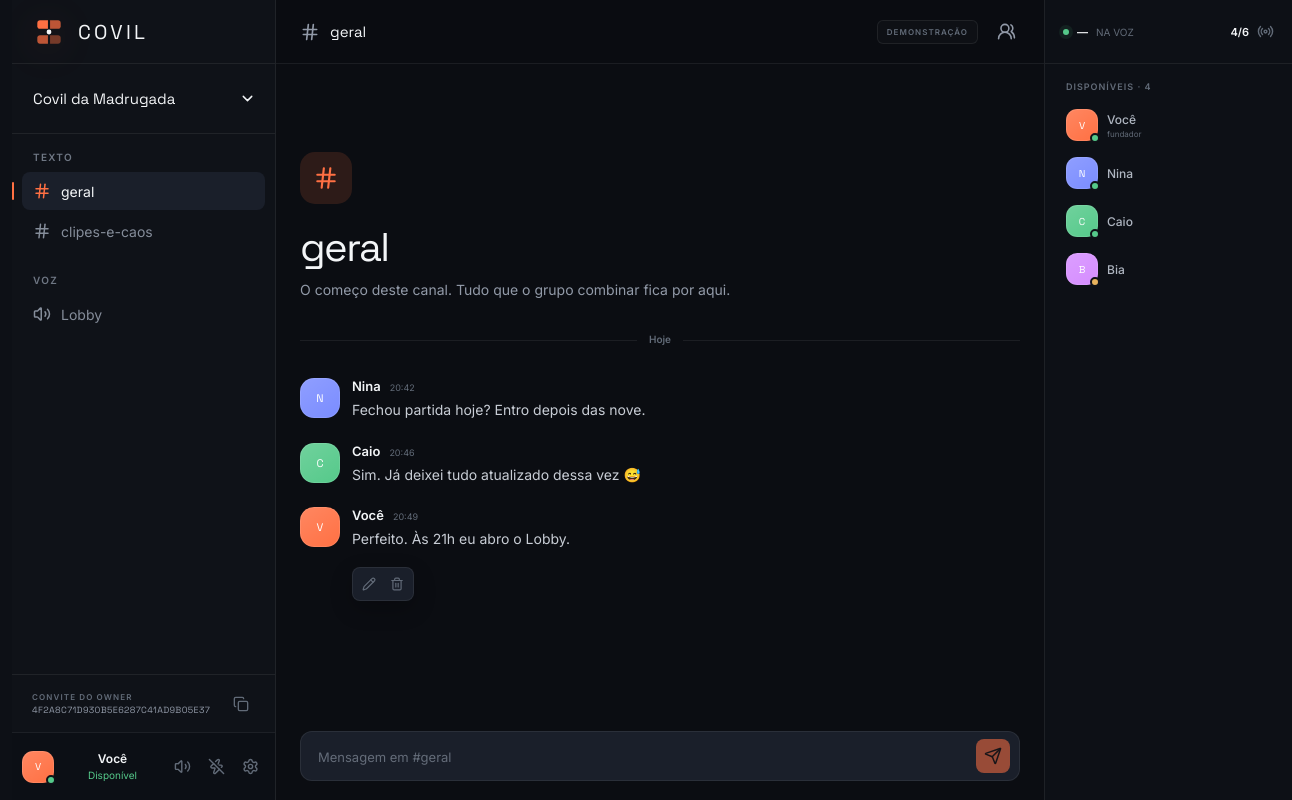
App em modo de demonstração › adiciona uma mensagem local ao canal atual
The width and height of the screenshot is (1292, 800).
Type "Mensagem criada no teste." into the text box named "Mensagem em geral".
click(660, 756); type("Mensagem criada no teste.")  # box 300,731 -> 1020,781
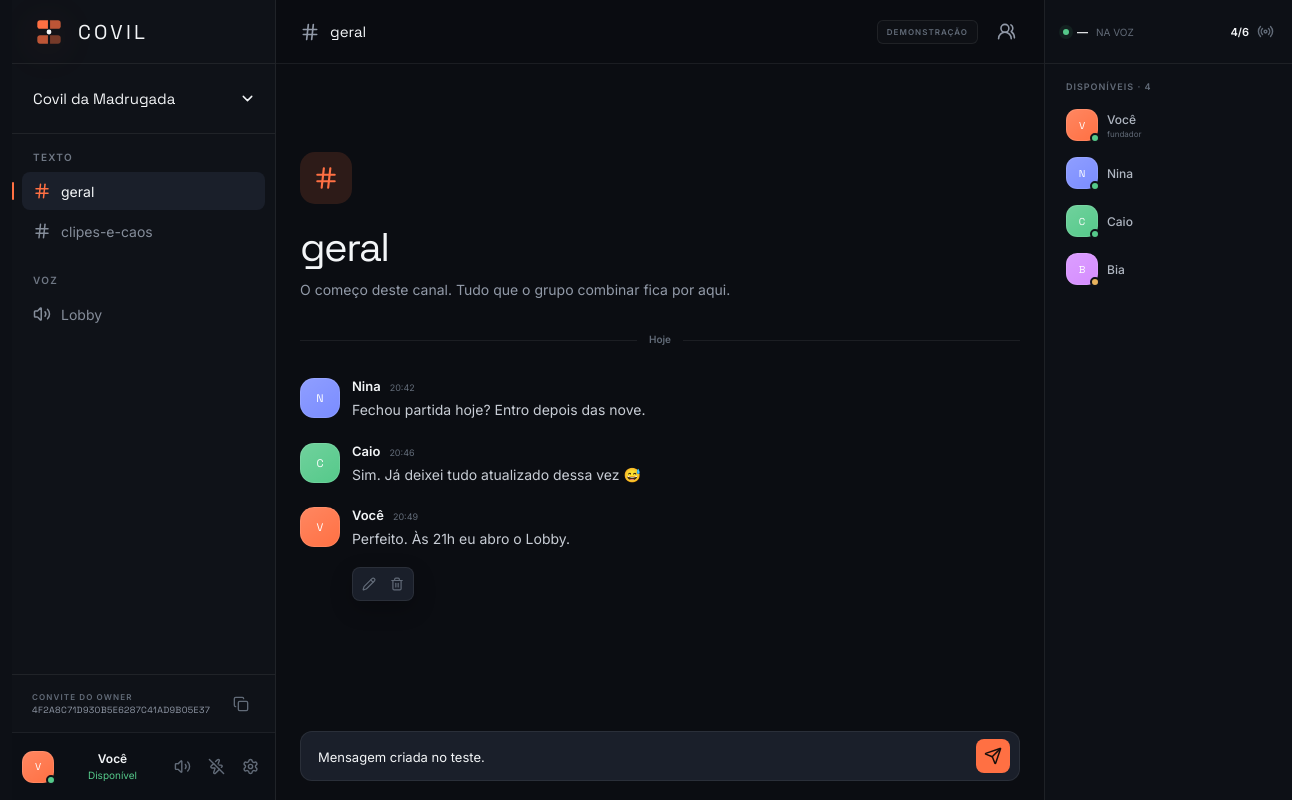
Click the button named "Enviar mensagem".
click(993, 756)  # box 976,739 -> 1010,773
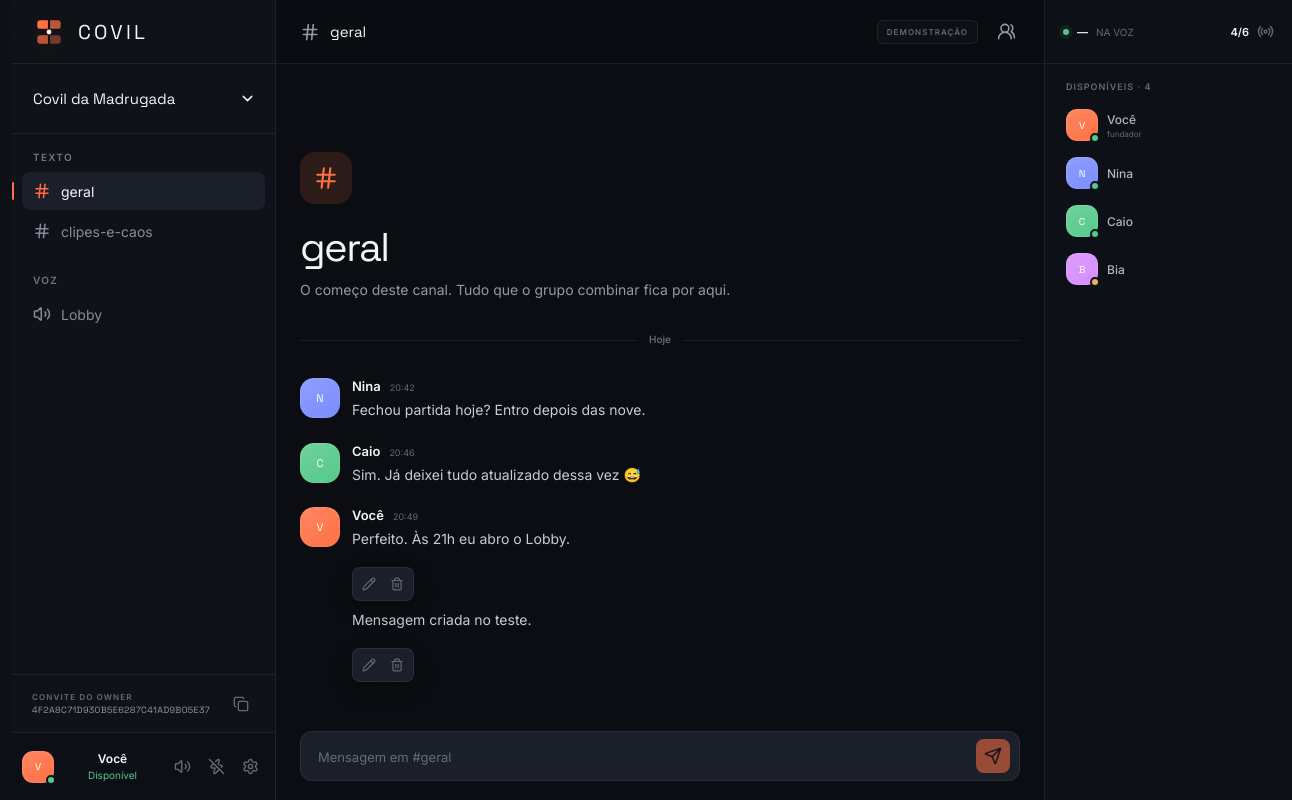
Expected: the text "Mensagem criada no teste." is shown, 352,611 -> 532,628
